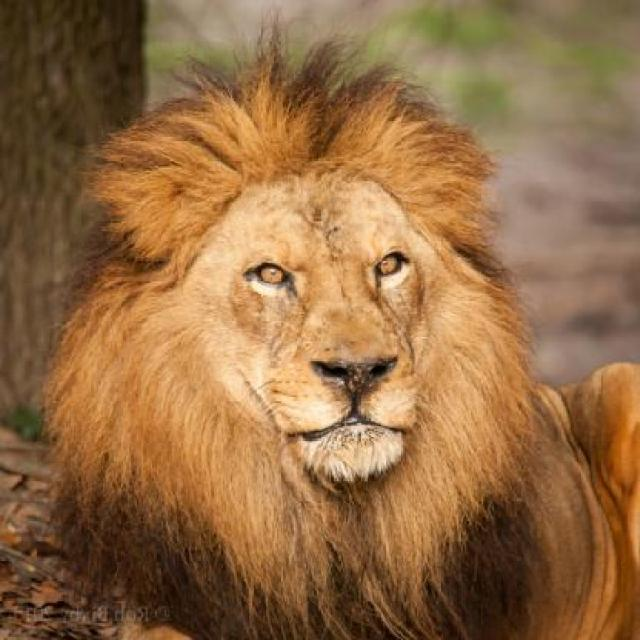Lion: (34, 20, 637, 638)
